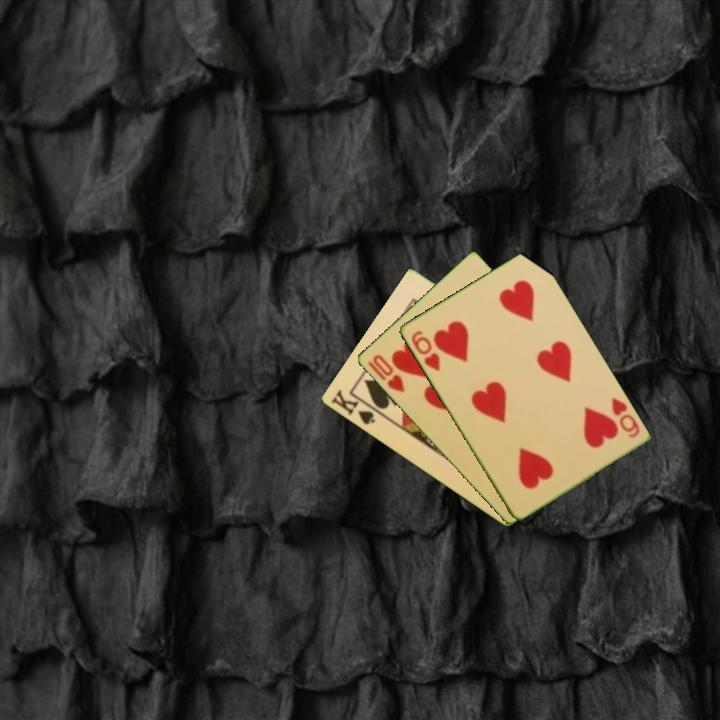10h: (369, 351, 407, 396)
6h: (407, 327, 443, 374), (607, 394, 642, 441)
Ks: (327, 386, 378, 428)
